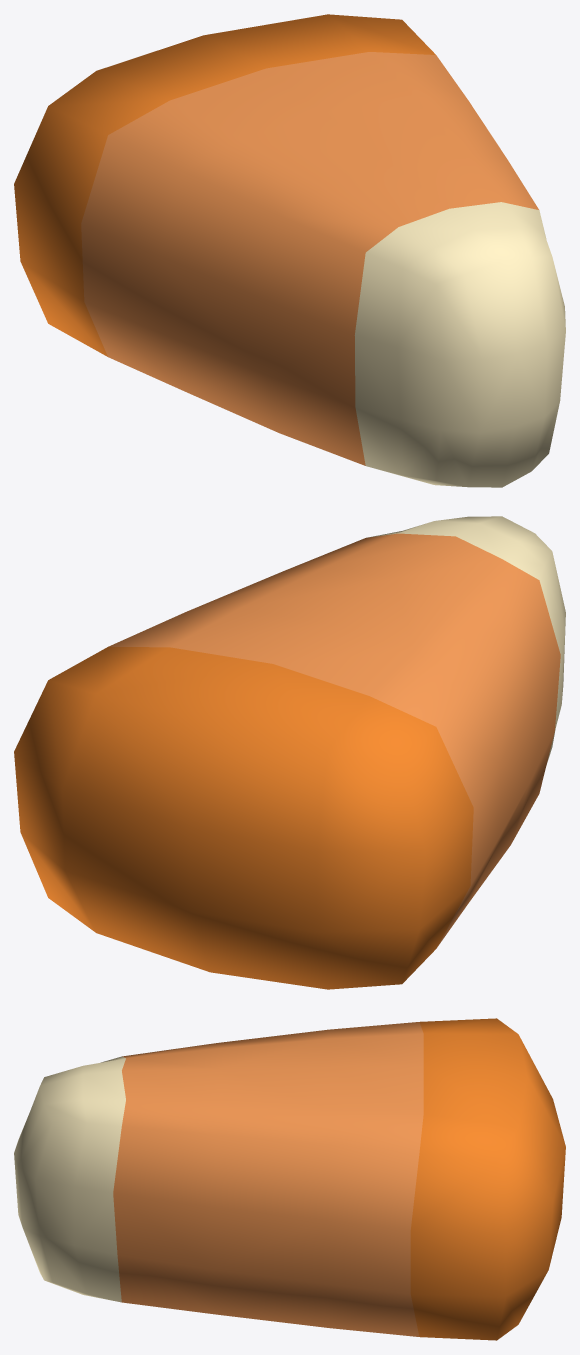
File: candy_assets12.fbx
The picture shows the model from 3 angles, top to bottom: view 1: azimuth 30°, elevation 25°; view 2: azimuth 150°, elevation 25°; view 3: azimuth 270°, elevation 25°; orthographic projection. The views are drawn at different scales.
Visible parts, largest first — view 1: candy_assets12; view 2: candy_assets12; view 3: candy_assets12.
Boxes of the visible parts, left/top/right/bottom form: candy_assets12: left=14, top=14, right=565, bottom=487; candy_assets12: left=14, top=516, right=565, bottom=989; candy_assets12: left=14, top=1018, right=565, bottom=1340.
Size of the model in its own units: 305 by 194 by 430.
Materials: 1 (1 with a texture image).
